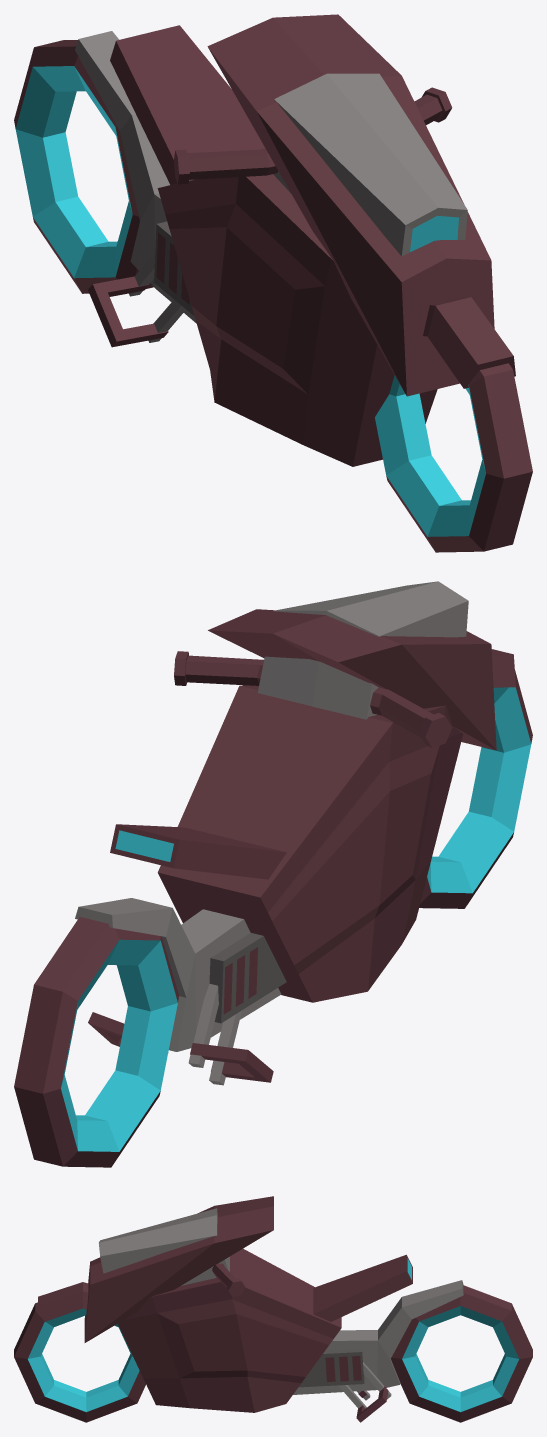
Rendered from scifi-motorbike.fbx.
The picture shows the model from 3 angles, top to bottom: view 1: azimuth 30°, elevation 25°; view 2: azimuth 150°, elevation 25°; view 3: azimuth 270°, elevation 25°; orthographic projection. The views are drawn at different scales.
Parts seen in each view (by area): view 1: scifi-motorbike-base, scifi-motorbike-wheel-F, scifi-motorbike-wheel-B; view 2: scifi-motorbike-base, scifi-motorbike-wheel-B, scifi-motorbike-wheel-F; view 3: scifi-motorbike-base, scifi-motorbike-wheel-B, scifi-motorbike-wheel-F.
Part boxes in pixels (box(x1,y1,x2,y2)): scifi-motorbike-base: box(75, 14, 515, 466); scifi-motorbike-wheel-F: box(375, 363, 532, 552); scifi-motorbike-wheel-B: box(14, 40, 153, 293); scifi-motorbike-base: box(75, 581, 515, 1085); scifi-motorbike-wheel-B: box(14, 917, 179, 1167); scifi-motorbike-wheel-F: box(419, 669, 532, 908); scifi-motorbike-base: box(38, 1196, 463, 1422); scifi-motorbike-wheel-B: box(391, 1285, 532, 1422); scifi-motorbike-wheel-F: box(14, 1302, 145, 1422).
Bounding box in the file's own units: 0.8246 × 1.16 × 2.56.
